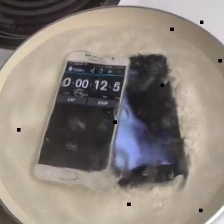phone: (89, 50, 191, 195), (27, 49, 131, 190)
